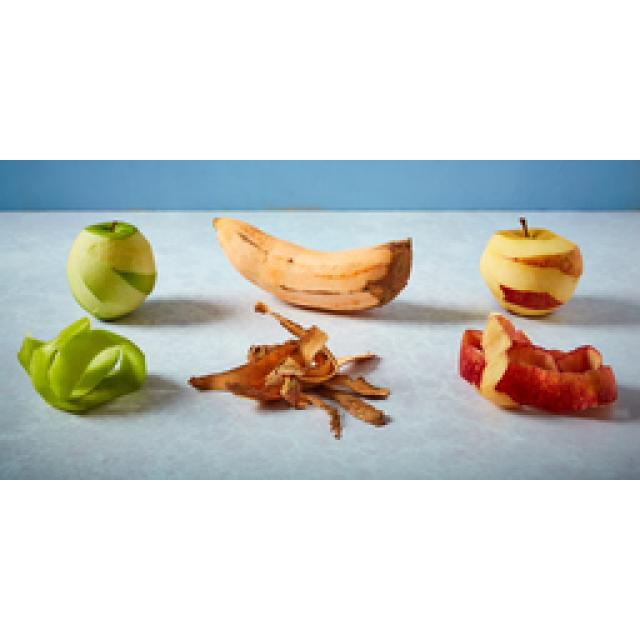food_waste: (190, 302, 388, 435), (215, 218, 408, 308), (460, 312, 615, 412), (18, 318, 145, 410), (480, 218, 580, 315), (68, 220, 155, 318)
